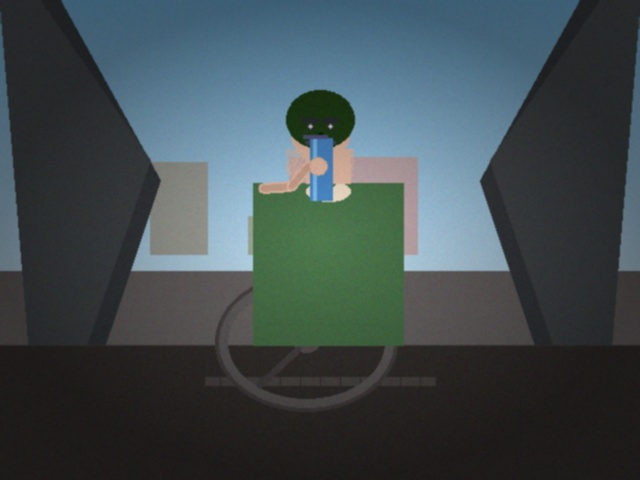drinking: (294, 125, 342, 210)
